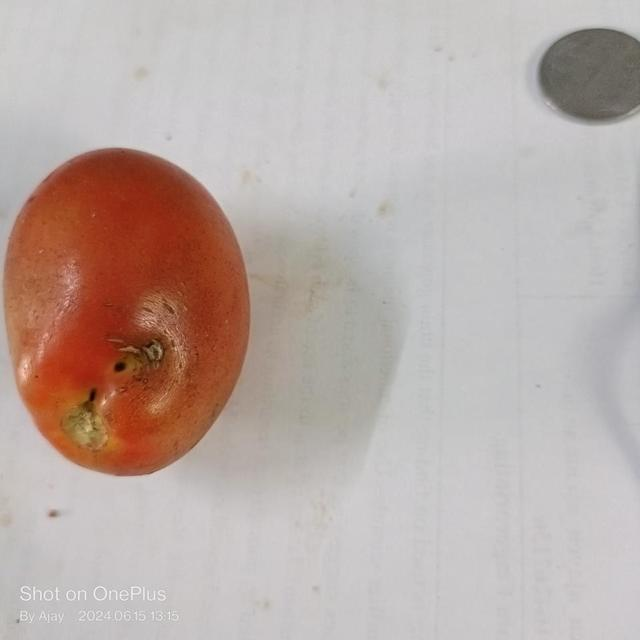Bacterial Spot Fruit: (16, 19, 95, 264)
